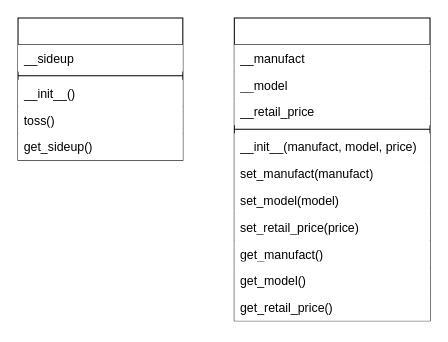
Some shapes in this 448 by 342 pixel diagram are drawn without their labels. Each missing label, with the box of its shape:
CellPhone: (233, 17, 430, 321)
Coin: (17, 17, 183, 160)
